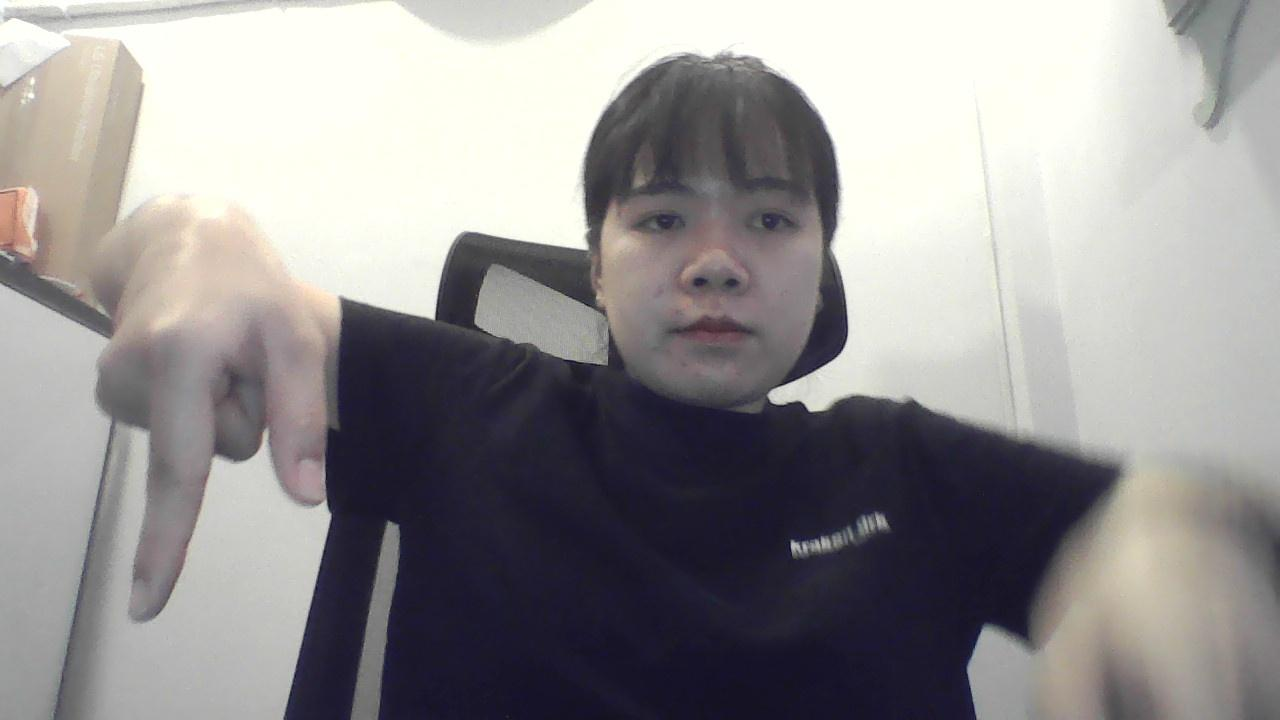Q: (82, 227, 345, 647)
